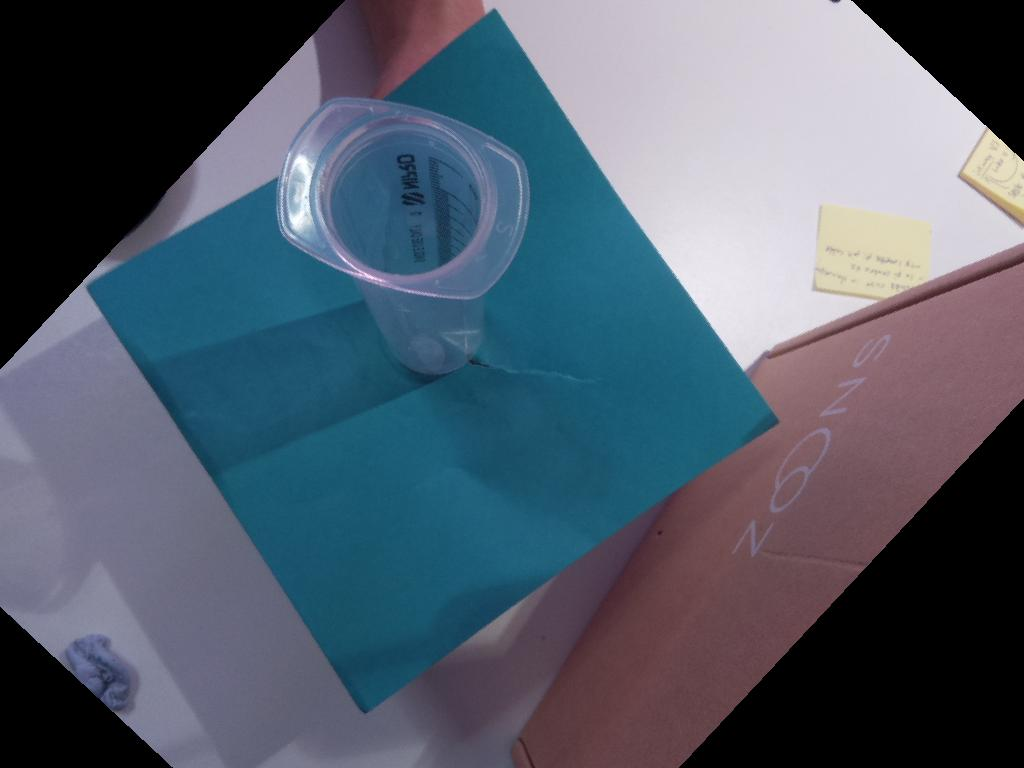clean: (274, 97, 531, 295)
